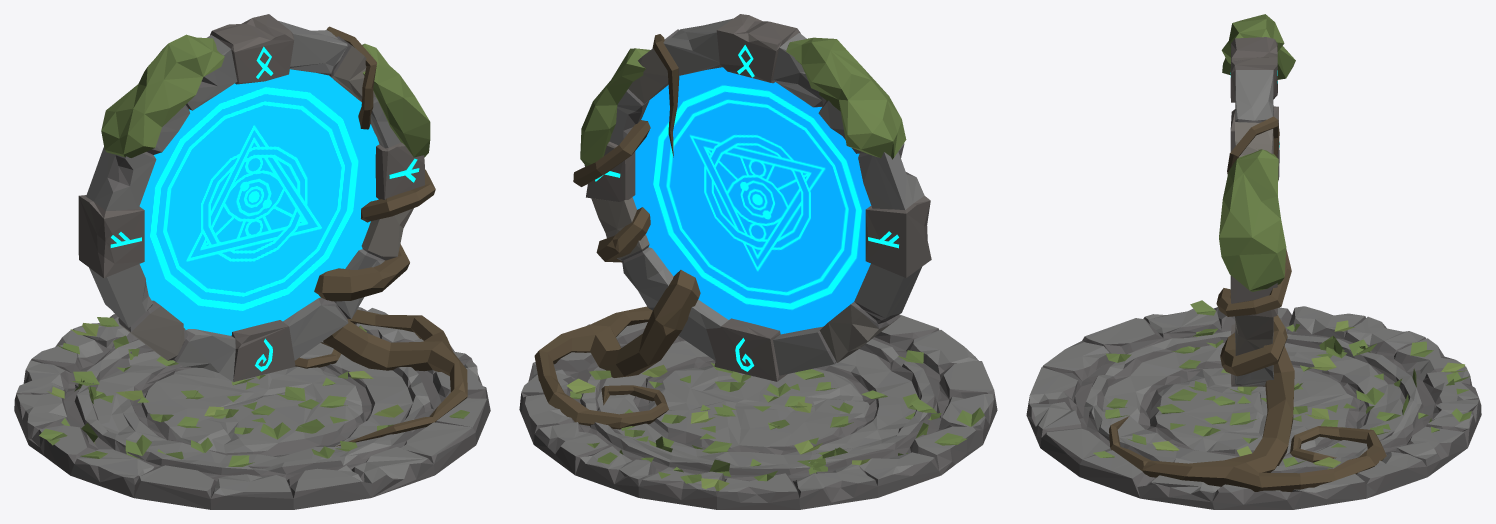
File: altar.glb
3 views of the same model, side by side, from view 1: azimuth 30°, elevation 25°; view 2: azimuth 150°, elevation 25°; view 3: azimuth 270°, elevation 25° (orthographic). The views are drawn at different scales.
Parts seen in each view (by area): view 1: Portal_01, Portal_01_Hole; view 2: Portal_01, Portal_01_Hole; view 3: Portal_01.
Part boxes in pixels (x1,y1,x2,y2): Portal_01: (14,14,490,509); Portal_01_Hole: (139,69,379,335); Portal_01: (519,14,997,509); Portal_01_Hole: (632,67,871,334); Portal_01: (1026,14,1481,509).
Size of the model in its own units: 2.58 by 2.33 by 2.59.
1 material, 1 textured.
